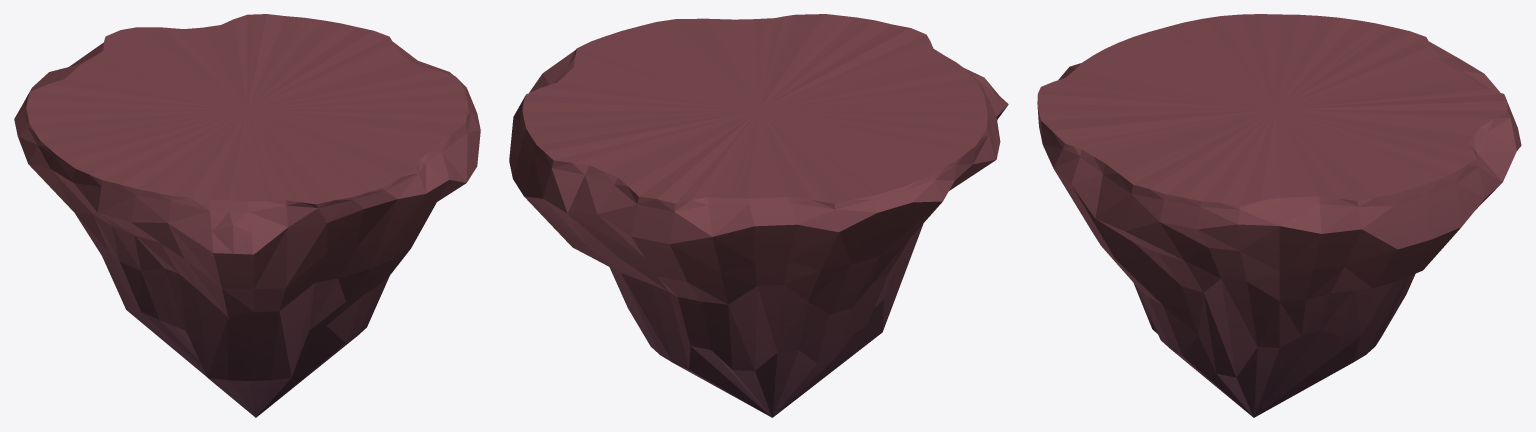
Rendered from island0.dae.
The picture shows the model from 3 angles, left to right: view 1: azimuth 30°, elevation 25°; view 2: azimuth 150°, elevation 25°; view 3: azimuth 270°, elevation 25°; orthographic projection. The views are drawn at different scales.
Parts seen in each view (by area): view 1: IslandRock; view 2: IslandRock; view 3: IslandRock.
Boxes of the visible parts, box(x1,y1,x2,y2) form: IslandRock: box(14, 14, 480, 417); IslandRock: box(509, 14, 1008, 417); IslandRock: box(1037, 14, 1521, 417).
Size of the model in its own units: 75.42 by 76.43 by 54.12.
Materials: 1 (1 with a texture image).
